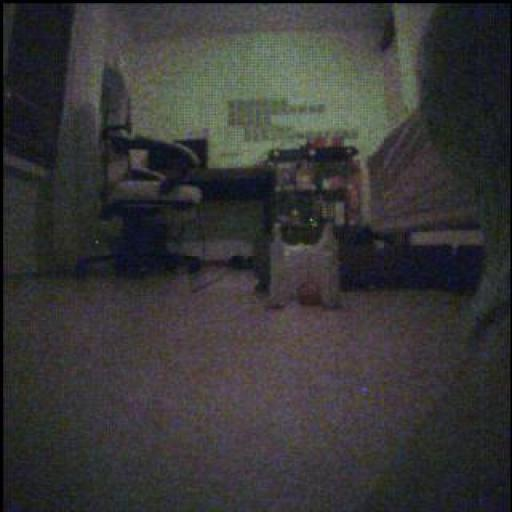basket: (298, 279, 323, 310)
